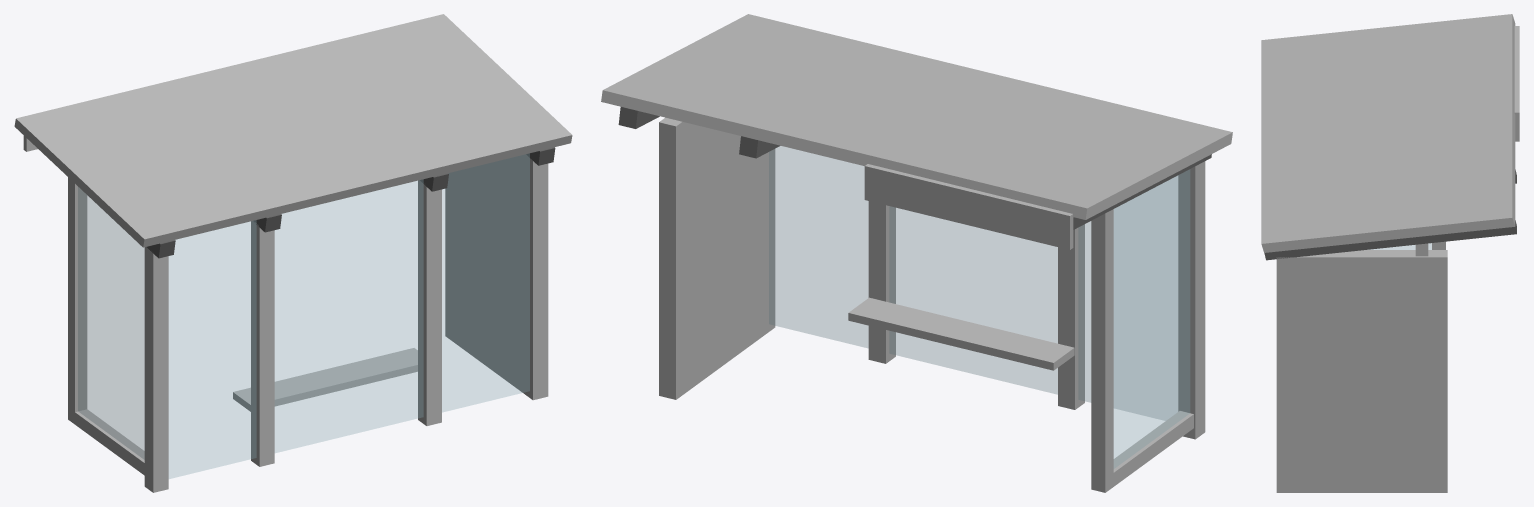
3 renders of one model, left to right at view 1: azimuth 30°, elevation 25°; view 2: azimuth 150°, elevation 25°; view 3: azimuth 270°, elevation 25°, orthographic. The views are drawn at different scales.
Parts seen in each view (by area): view 1: Bus_Stop_01, Bus_Stop_01_glass; view 2: Bus_Stop_01, Bus_Stop_01_glass; view 3: Bus_Stop_01.
Part boxes in pixels (x1,y1,x2,y2): Bus_Stop_01: [14, 14, 572, 492]; Bus_Stop_01_glass: [78, 153, 529, 478]; Bus_Stop_01: [601, 14, 1232, 492]; Bus_Stop_01_glass: [769, 146, 1189, 468]; Bus_Stop_01: [1261, 14, 1519, 492].
Bounding box in the file's own units: 3.66 × 2.37 × 1.96.
Materials: 2 (1 with a texture image).
